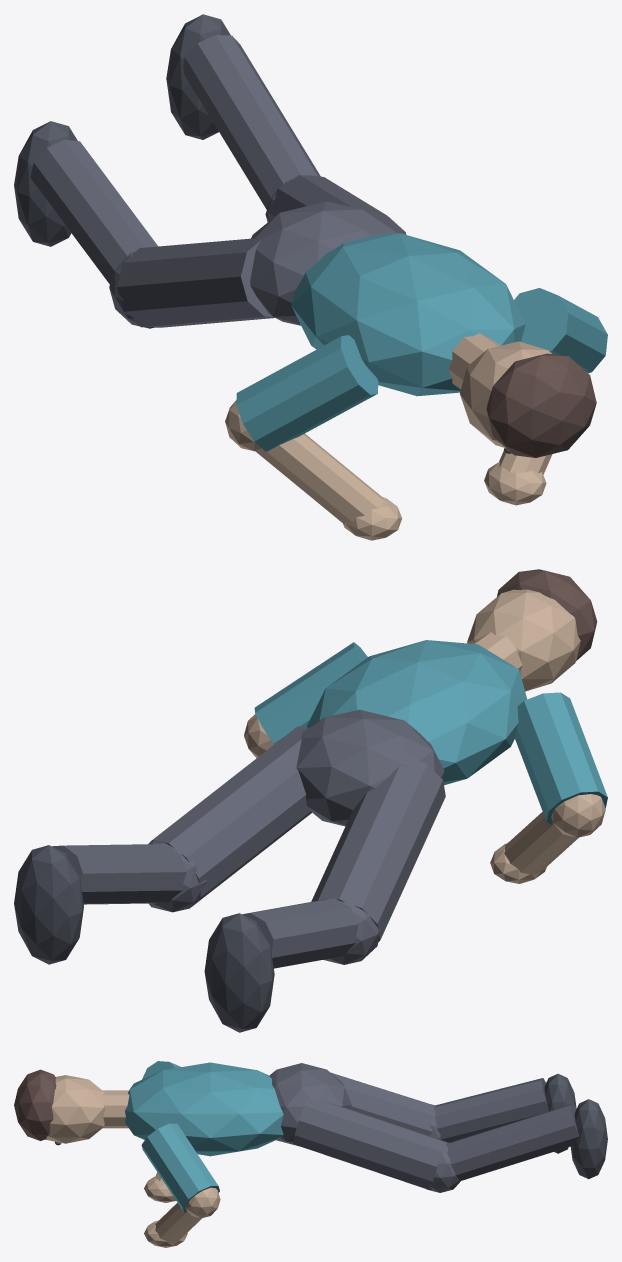
3 views of the same model, one above another, from view 1: azimuth 30°, elevation 25°; view 2: azimuth 150°, elevation 25°; view 3: azimuth 270°, elevation 25° (orthographic). The views are drawn at different scales.
Visible parts, largest first — view 1: world; view 2: world; view 3: world.
Boxes of the visible parts, left/top/right/bottom form: world: left=14, top=14, right=607, bottom=540; world: left=14, top=569, right=607, bottom=1032; world: left=14, top=1061, right=607, bottom=1247.
Bounding box in the file's own units: 0.93 × 0.57 × 2.01.
